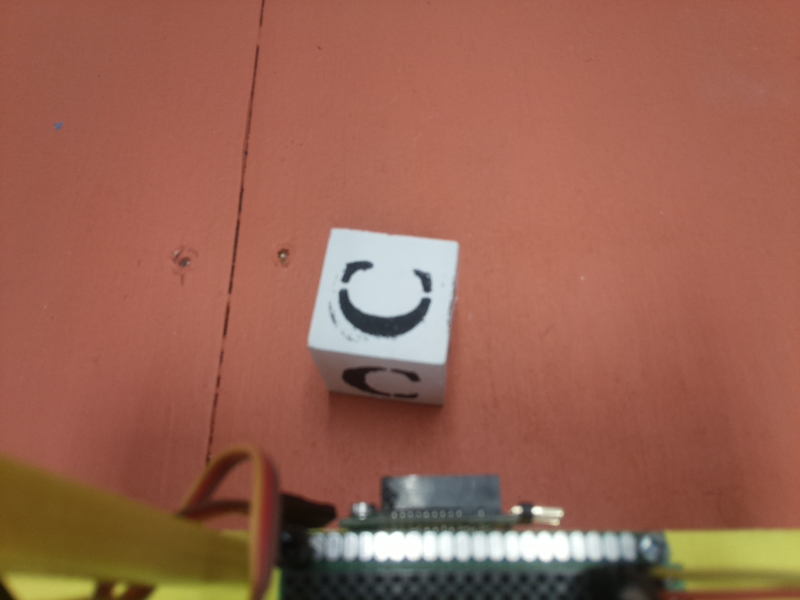blockC: (305, 228, 459, 413)
